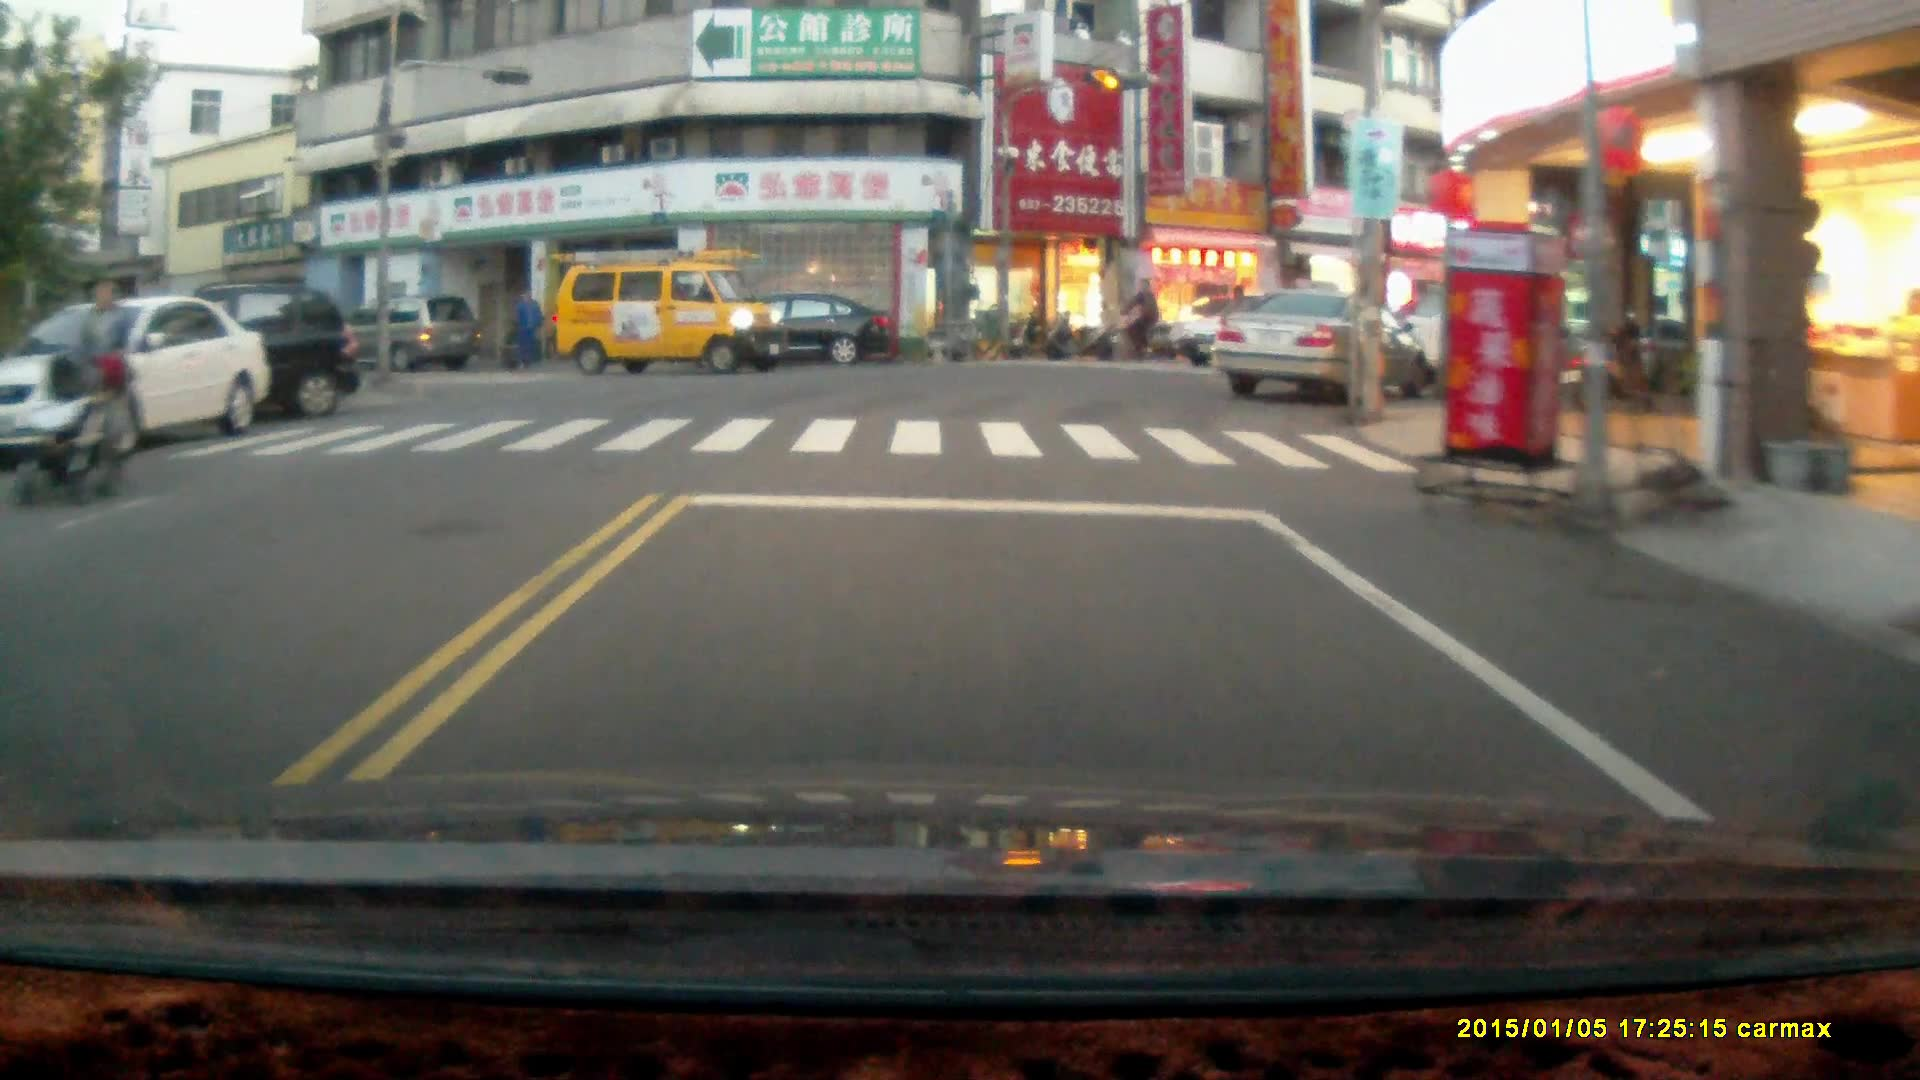pedestrian: (73, 282, 128, 477), (510, 287, 540, 368)
rider: (13, 346, 128, 509), (1102, 274, 1166, 363)
vehicle: (63, 276, 362, 422), (6, 295, 260, 454), (548, 243, 789, 378), (1209, 286, 1426, 402), (1390, 285, 1608, 397), (1159, 288, 1365, 379), (715, 294, 890, 371), (334, 294, 477, 377)
